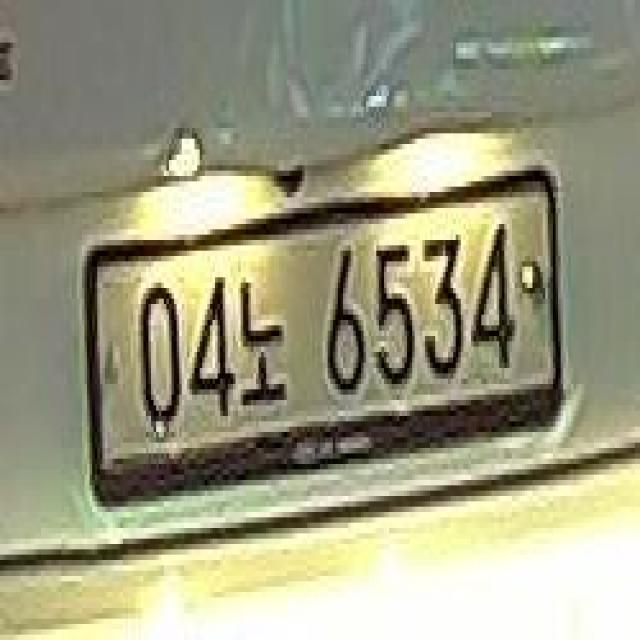illegal_plate: (87, 165, 563, 504)
